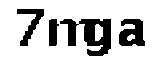7: (12, 6, 47, 52)
a: (118, 16, 149, 51)
g: (82, 16, 116, 59)
n: (47, 17, 78, 51)
